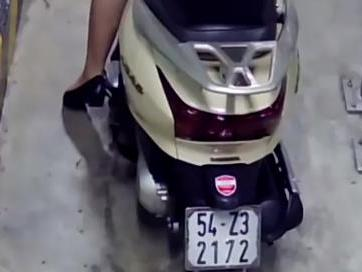num_plate: (185, 206, 263, 268)
